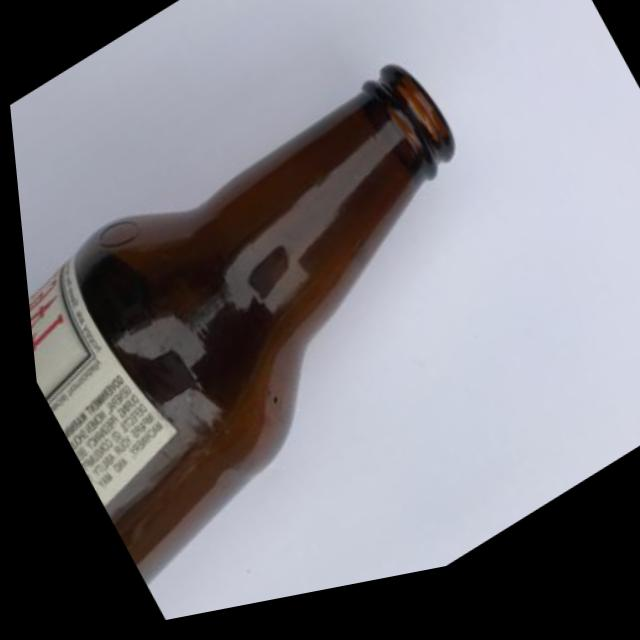glass: (4, 0, 604, 640)
